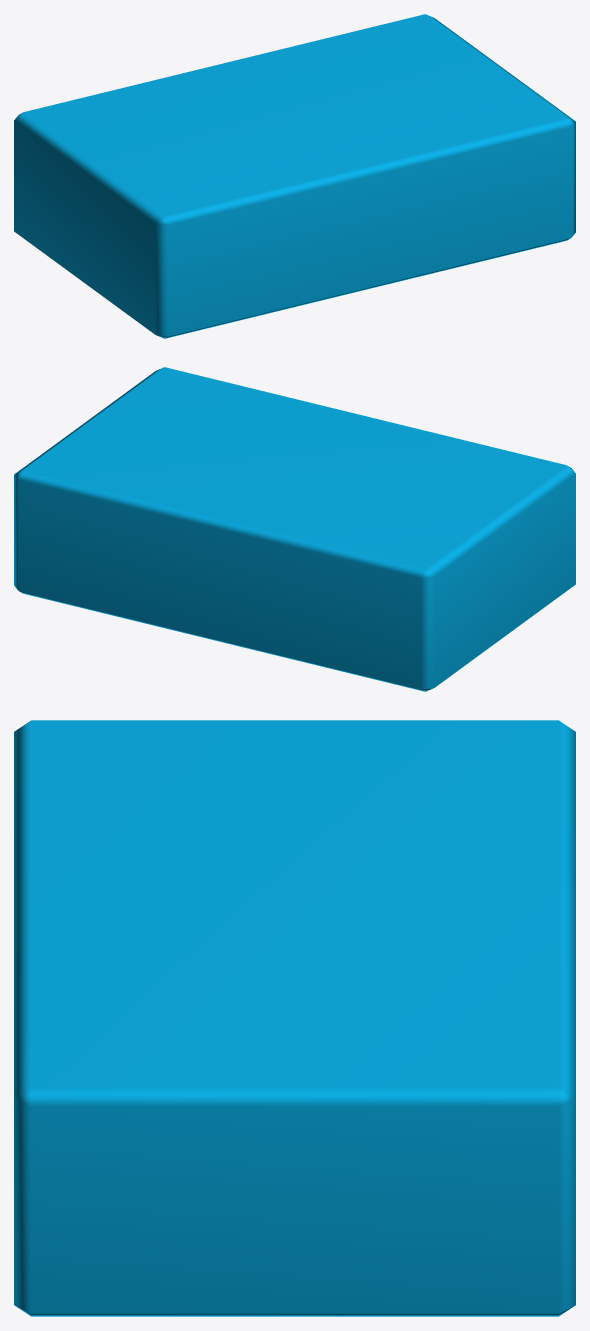
The model's file is Soap_03_Lod0.fbx.
3 views of the same model, one above another, from view 1: azimuth 30°, elevation 25°; view 2: azimuth 150°, elevation 25°; view 3: azimuth 270°, elevation 25° (orthographic). The views are drawn at different scales.
Parts seen in each view (by area): view 1: Soap_03_Lod0; view 2: Soap_03_Lod0; view 3: Soap_03_Lod0.
Boxes of the visible parts, x1,y1,x2,y2 form: Soap_03_Lod0: (14,14,575,338); Soap_03_Lod0: (14,367,575,691); Soap_03_Lod0: (14,720,575,1316).
Bounding box in the file's own units: 13.73 × 3.84 × 8.51.
